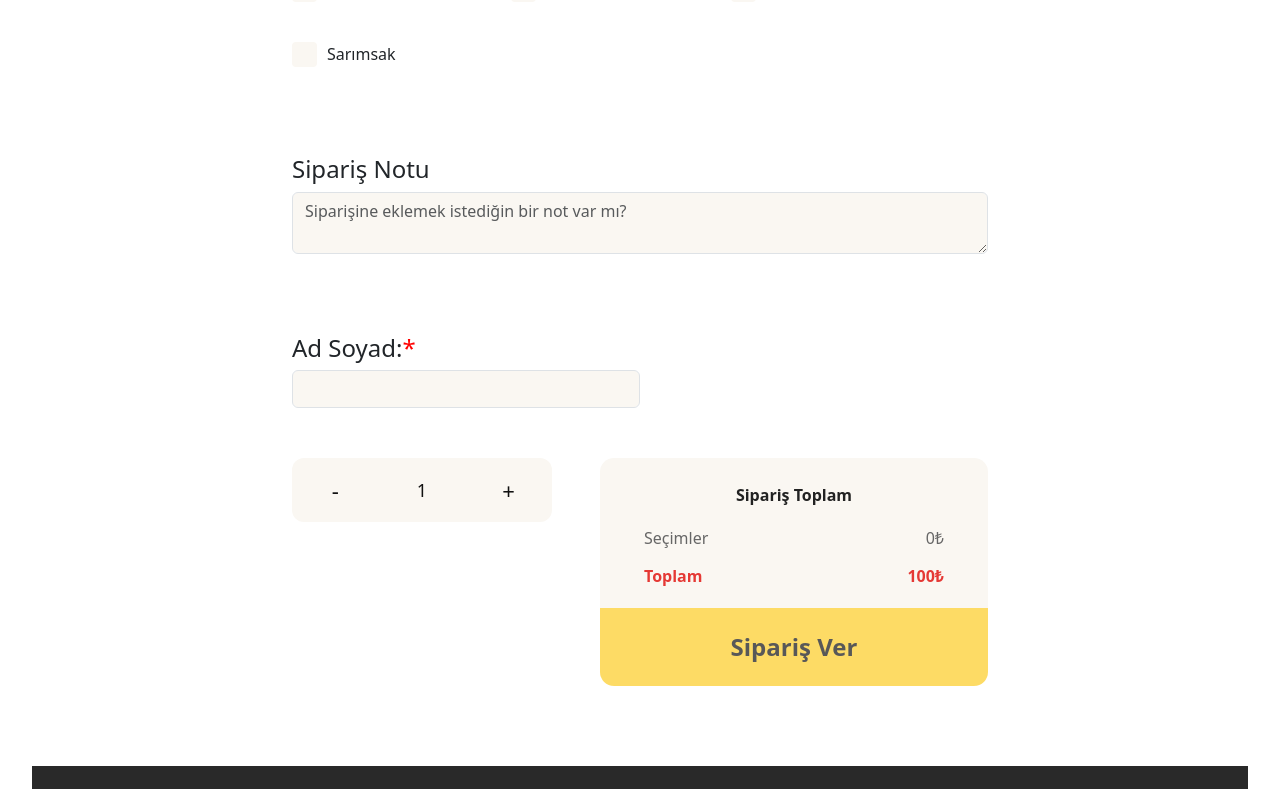
Scenario: Pizza websitesi testler › Ad soyad input alanında 4 karakterden az karakter sayısında error mesajı veriyor
(page scrolled)
Type "abc" into the field with test id "nameinput".
click(466, 389); type("abc")  # box [292,370,640,408]
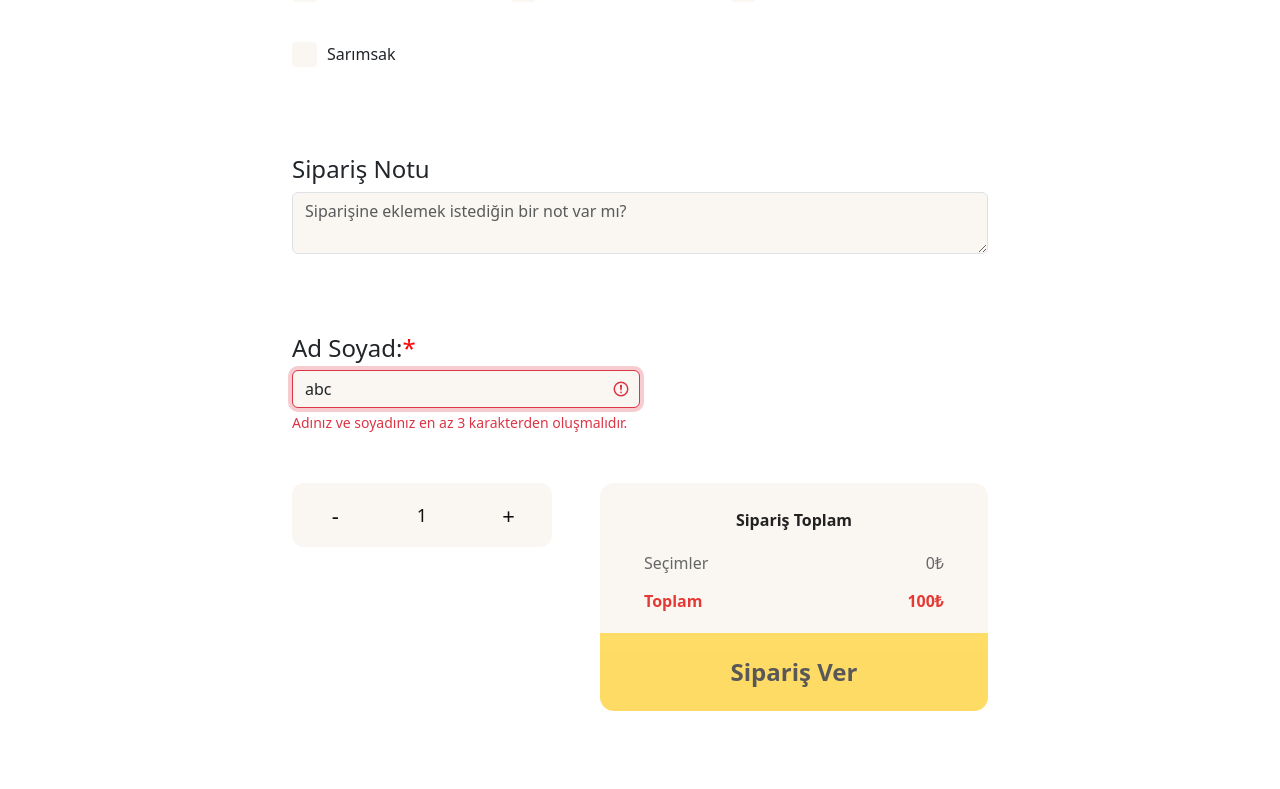
Now the text "Adınız ve soyadınız en az 3 karakterden oluşmalıdır." is shown, box [292,413,627,432]
